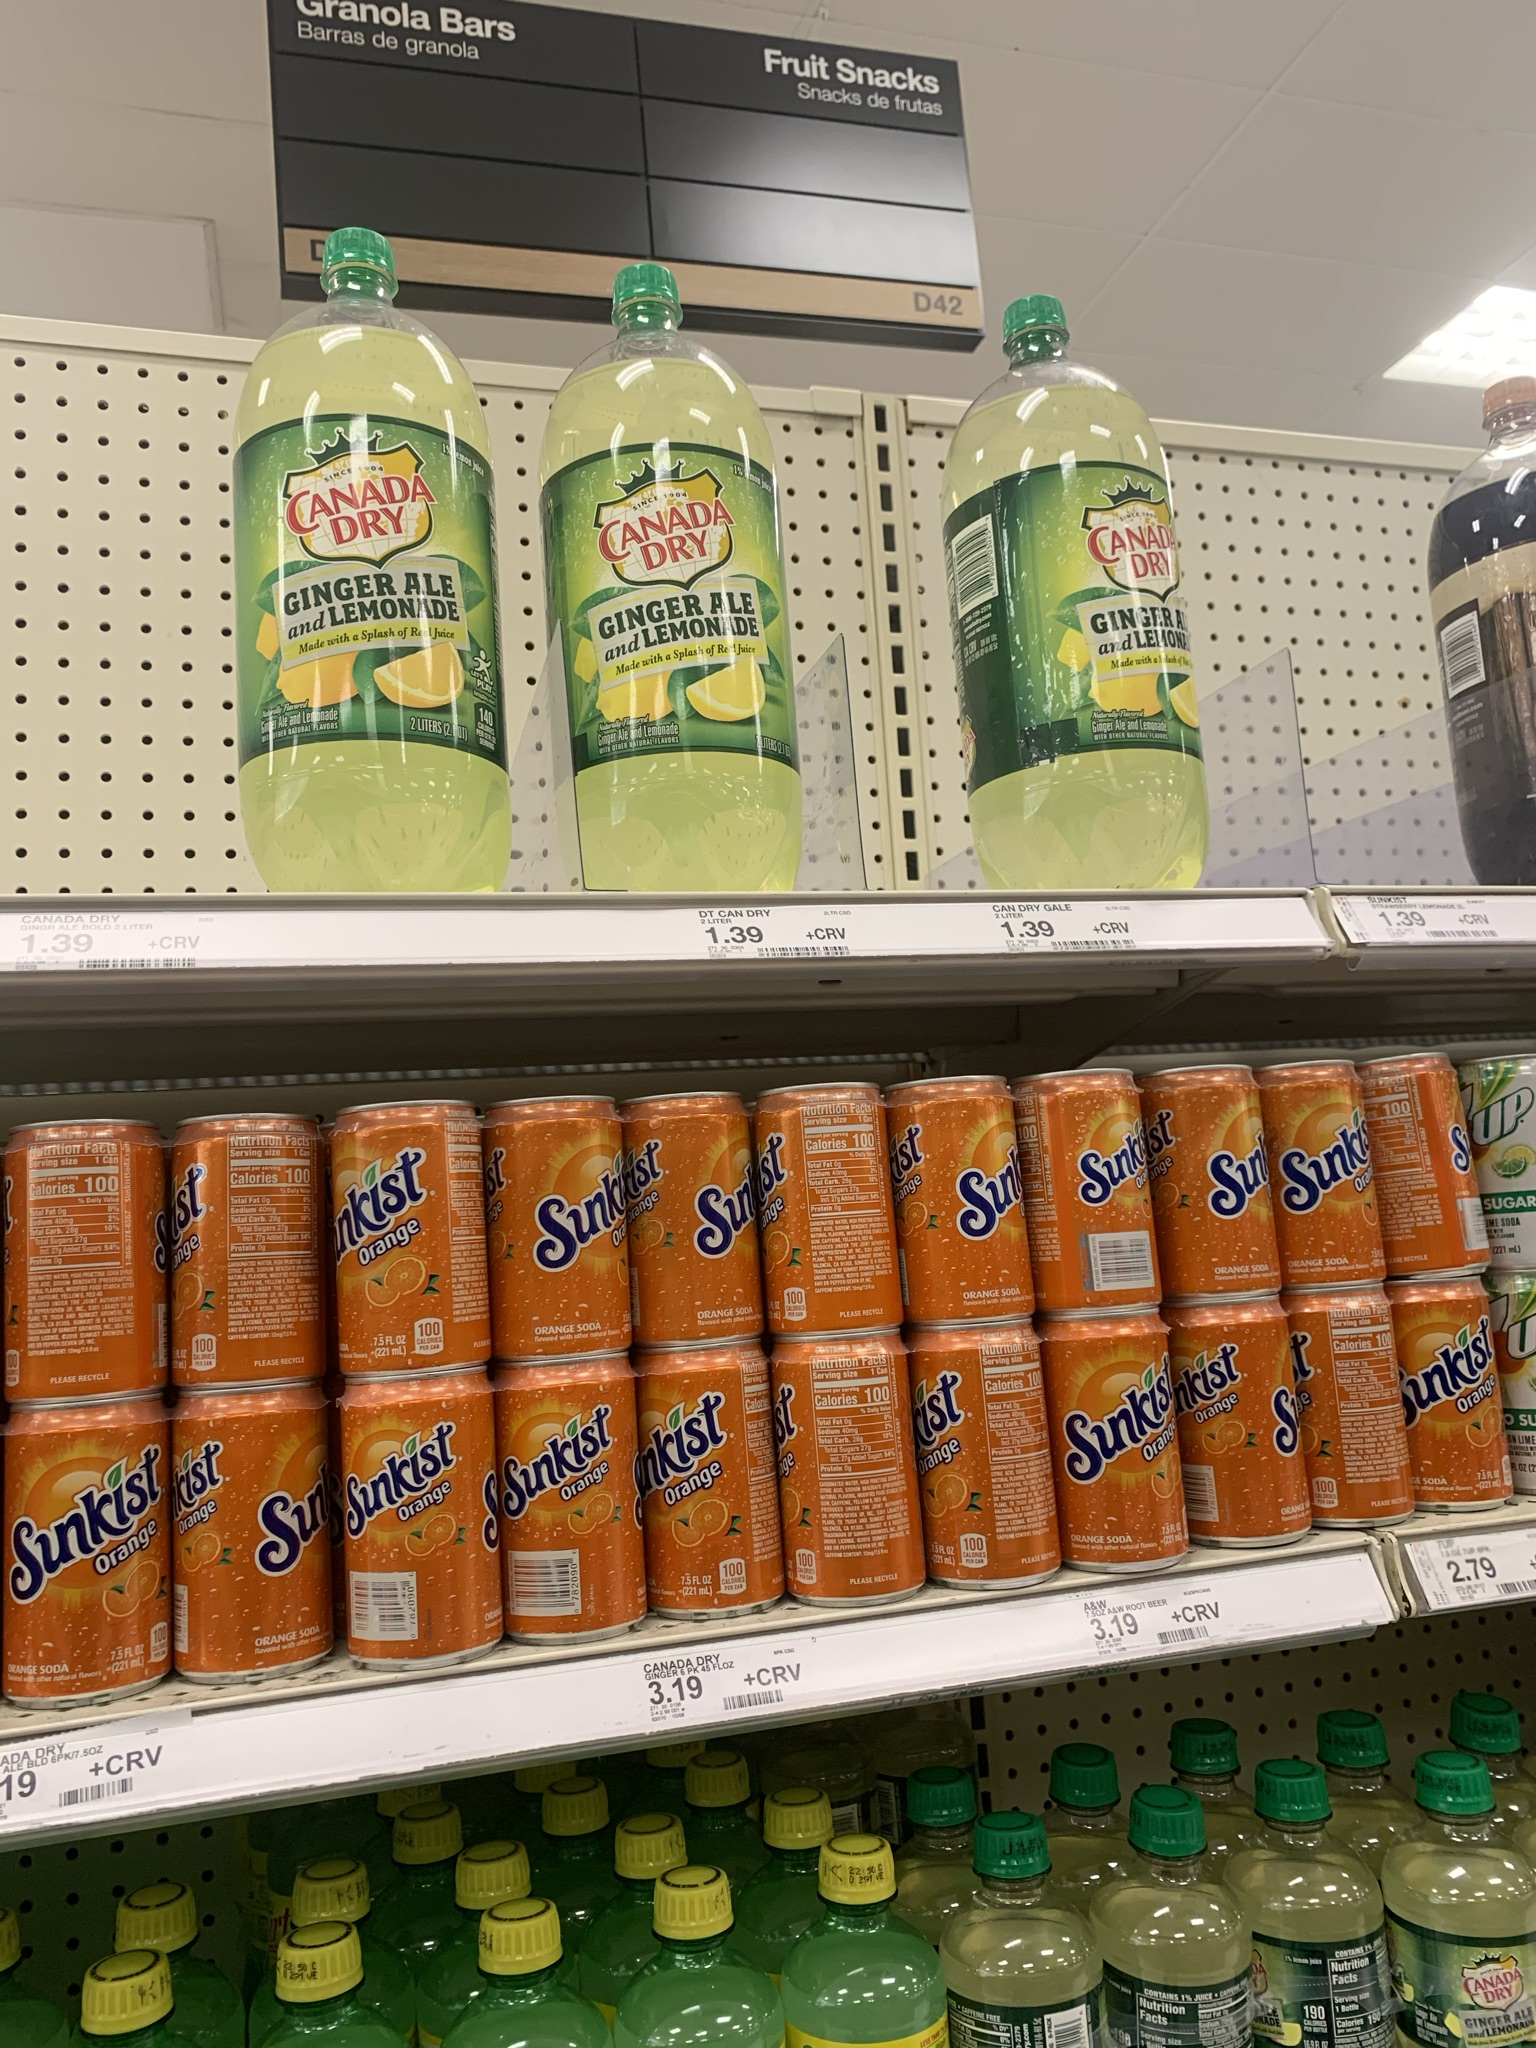can: (6, 1114, 161, 1401), (168, 1111, 323, 1393), (173, 1392, 324, 1677), (773, 1334, 921, 1608), (336, 1097, 476, 1372), (353, 1397, 490, 1655), (15, 1435, 152, 1688), (626, 1089, 760, 1347), (1021, 1068, 1158, 1314), (520, 1366, 634, 1634), (916, 1080, 1029, 1322), (941, 1342, 1050, 1588), (792, 1351, 905, 1585), (783, 1079, 886, 1334), (505, 1105, 613, 1347), (645, 1374, 760, 1600), (1083, 1335, 1181, 1564), (1313, 1308, 1399, 1519), (1276, 1077, 1368, 1271), (1199, 1326, 1283, 1535), (1418, 1292, 1501, 1505), (1167, 1077, 1252, 1277), (1392, 1071, 1463, 1268)
